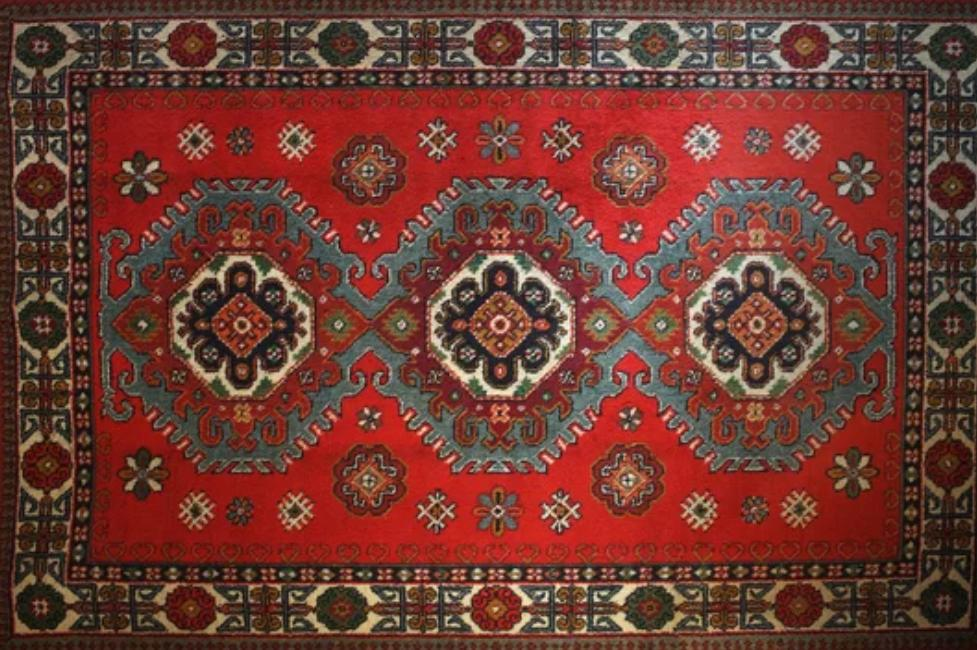carpet: (6, 10, 977, 639)
